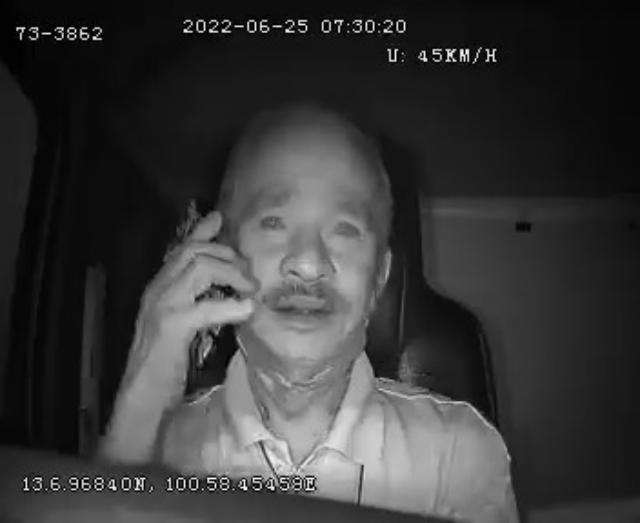PhoneUse: (160, 192, 238, 376)
SafeDriving: (321, 202, 374, 251), (249, 198, 297, 242)
